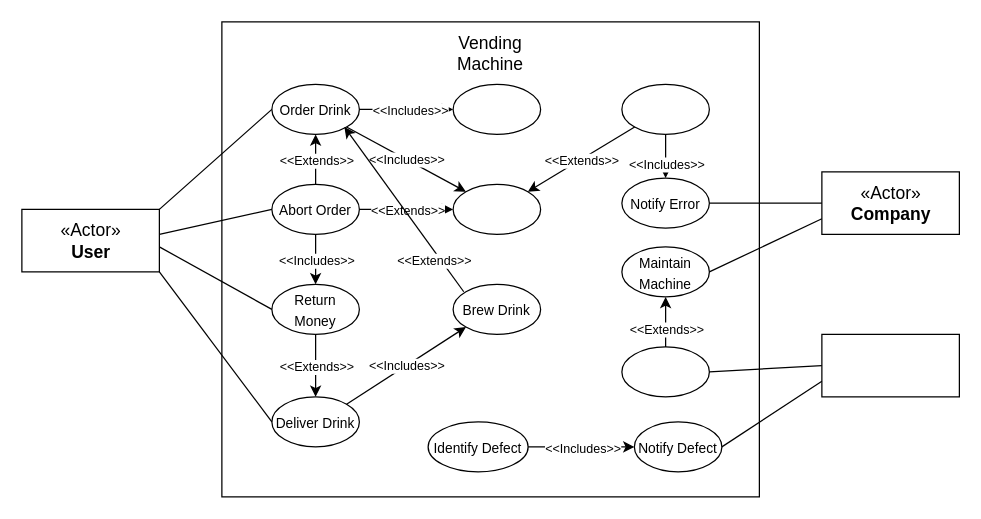
Image size: 981x519. Some labels were removed from this diagram. Here are the shapes that lost their labels. From the top down, the centre of each, then its label:
At point 496,108: "Verify Amount".
At point 665,108: "Identify Error".
At point 496,208: "Check Ingredients".
At point 665,371: "Fix Defect".
At point 890,365: "«Actor» Technician".
